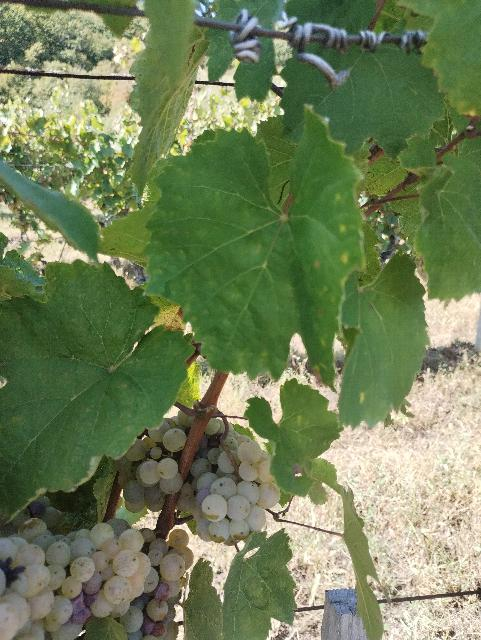grapes: (0, 515, 194, 640), (115, 418, 281, 545)
